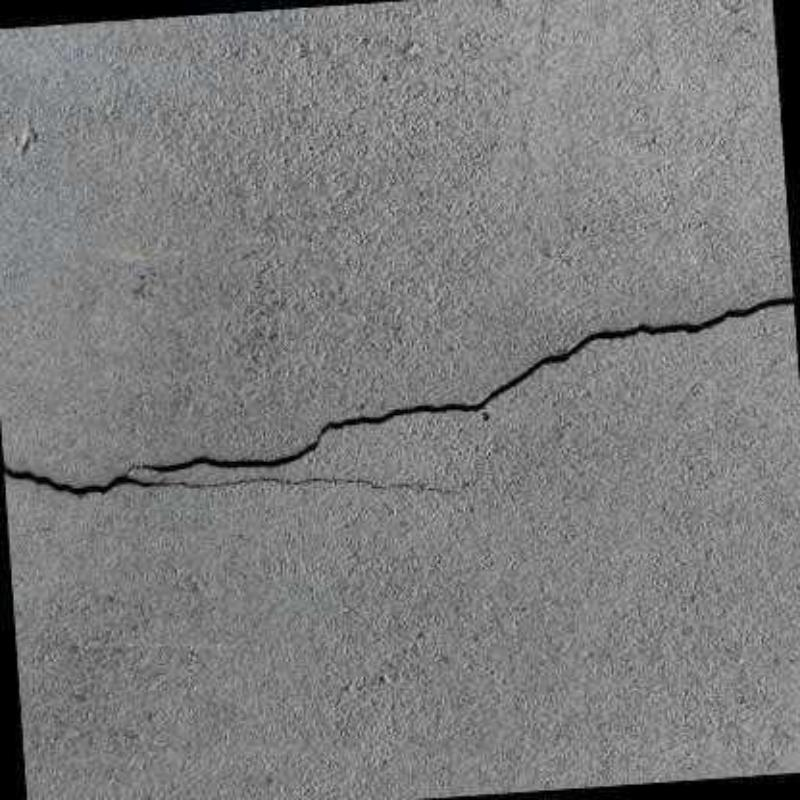pothole: (3, 296, 794, 494)
